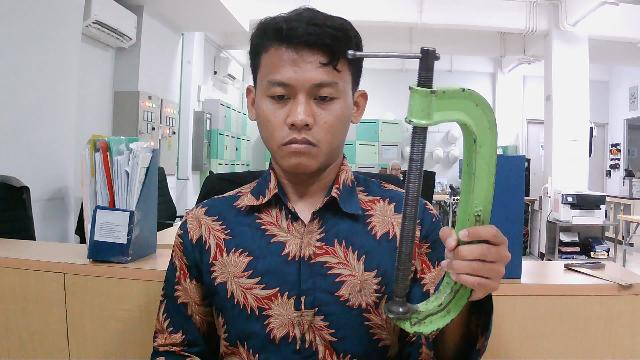tekiro_c_clamp: (341, 43, 517, 341)
